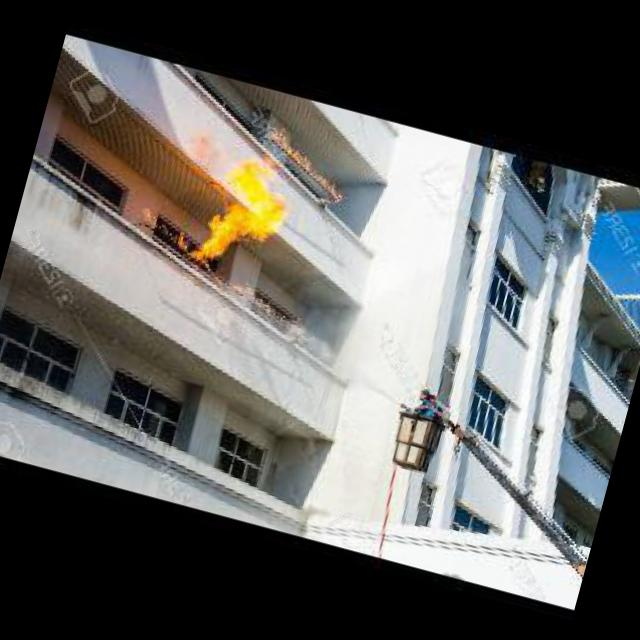fire: (132, 122, 312, 300)
